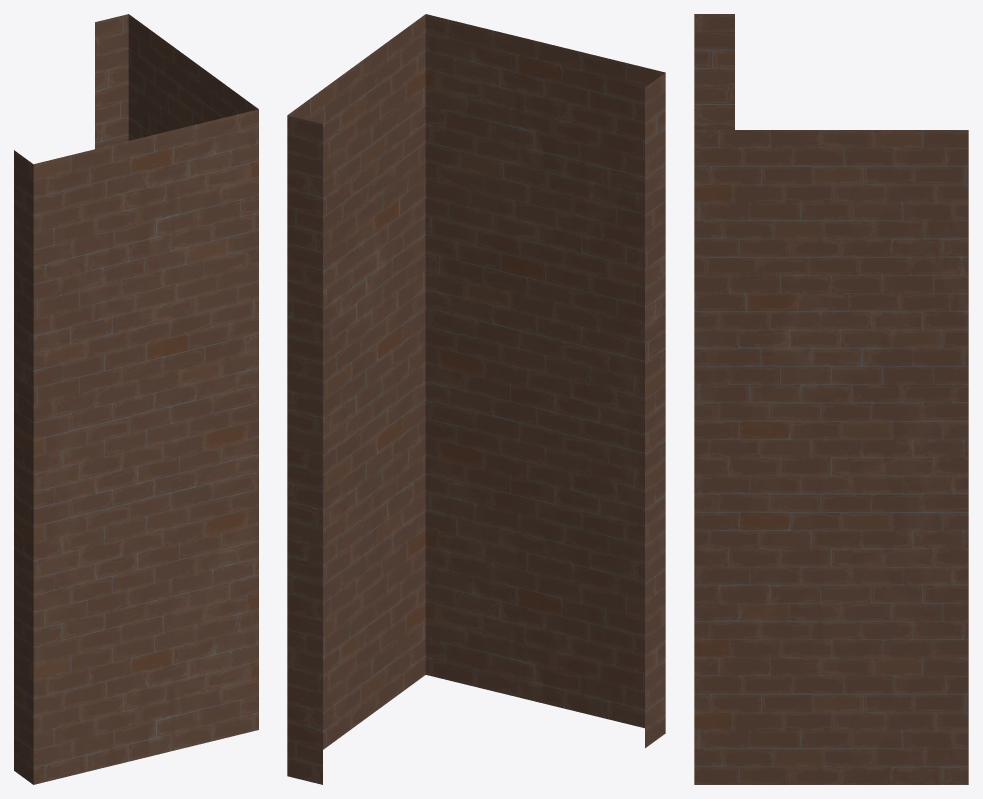
The model's file is Brick_CornerColumn_Center.glb.
3 views of the same model, side by side, from view 1: azimuth 30°, elevation 25°; view 2: azimuth 150°, elevation 25°; view 3: azimuth 270°, elevation 25° (orthographic). The views are drawn at different scales.
Visible parts, largest first — view 1: Brick_CornerColumn_Center; view 2: Brick_CornerColumn_Center; view 3: Brick_CornerColumn_Center.
Boxes of the visible parts, x1,y1,x2,y2 form: Brick_CornerColumn_Center: (14,14,258,784); Brick_CornerColumn_Center: (287,14,665,784); Brick_CornerColumn_Center: (694,14,968,784).
Bounding box in the file's own units: 1.14 × 3 × 1.14.
1 material, 1 textured.
